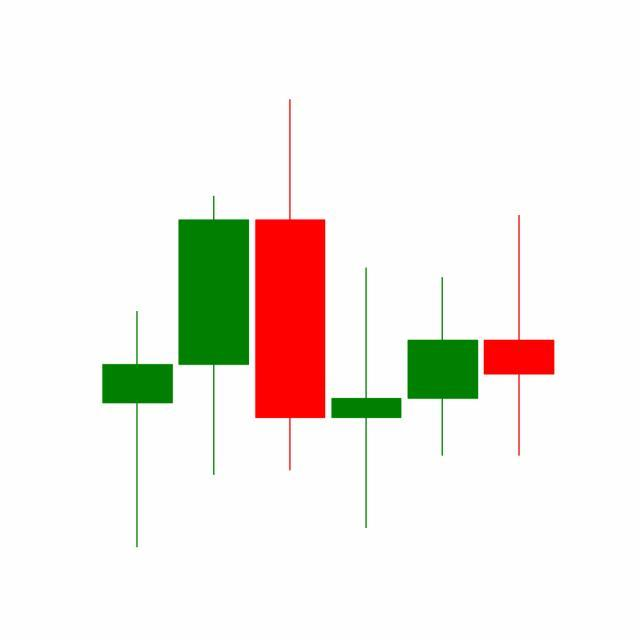Spinning Top: (404, 276, 482, 459)
